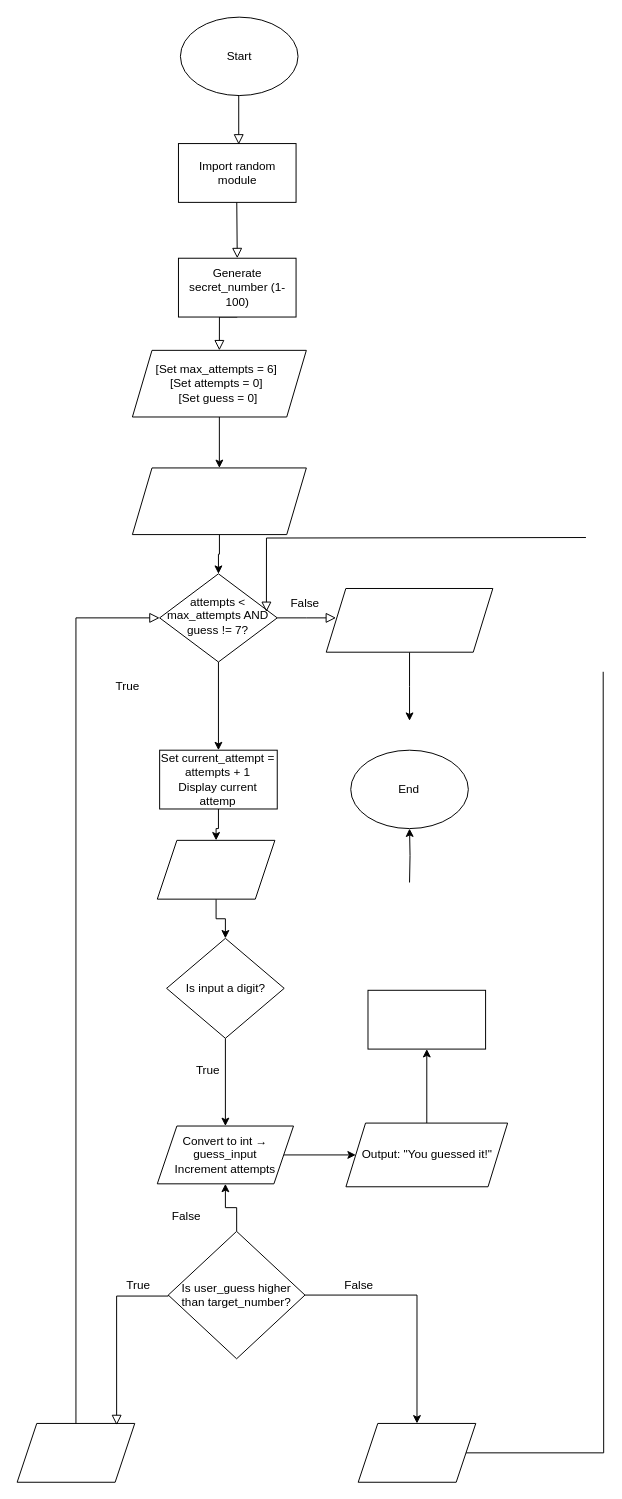
Some shapes in this 622 by 1499 pixel diagram are drawn without their labels. Each missing label, with the box of its shape:
Display game title and instructions: (131, 467, 306, 535)
Get user input: (156, 839, 275, 899)
Output: "Higher": (357, 1422, 476, 1482)
Output: "Lower": (16, 1422, 135, 1482)
Output: "Out of Guesses" Show Correct Answer: (325, 588, 493, 652)
Set guess_count = 7 (Exit Loop): (367, 989, 486, 1049)
